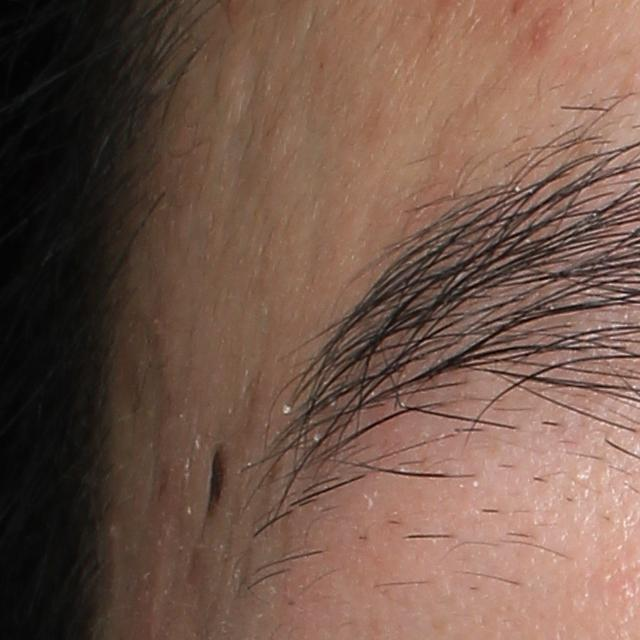nevus: (206, 440, 230, 524)
